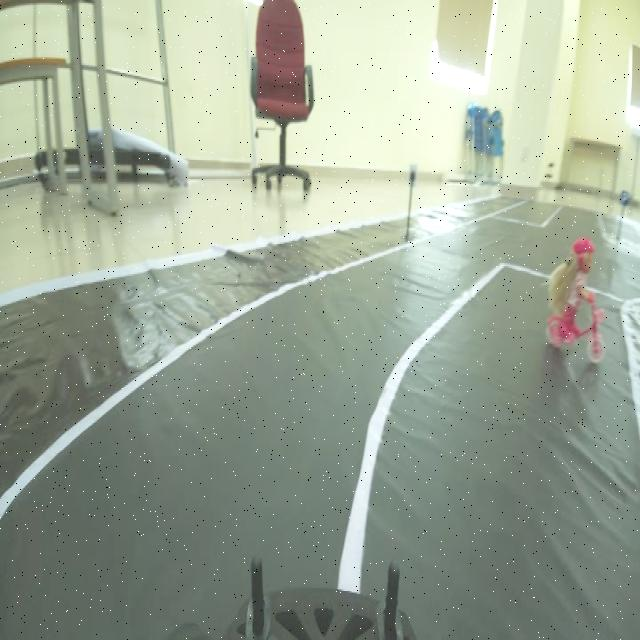pedestrian: (538, 226, 608, 366)
